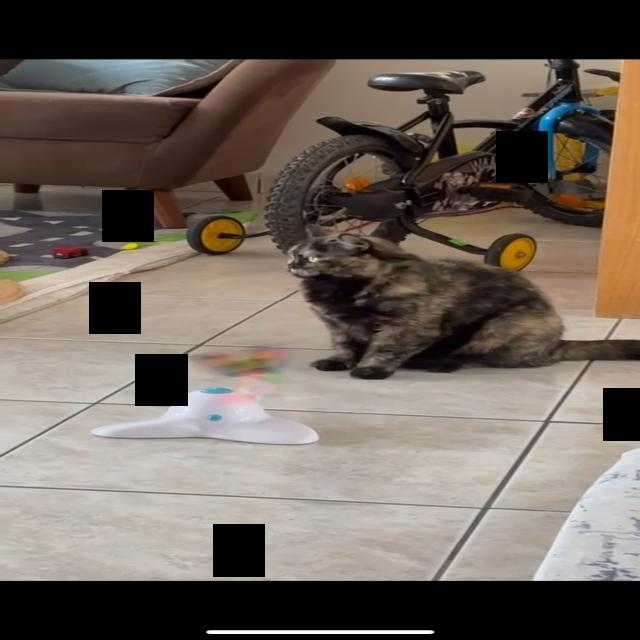authorized: (284, 232, 638, 380)
